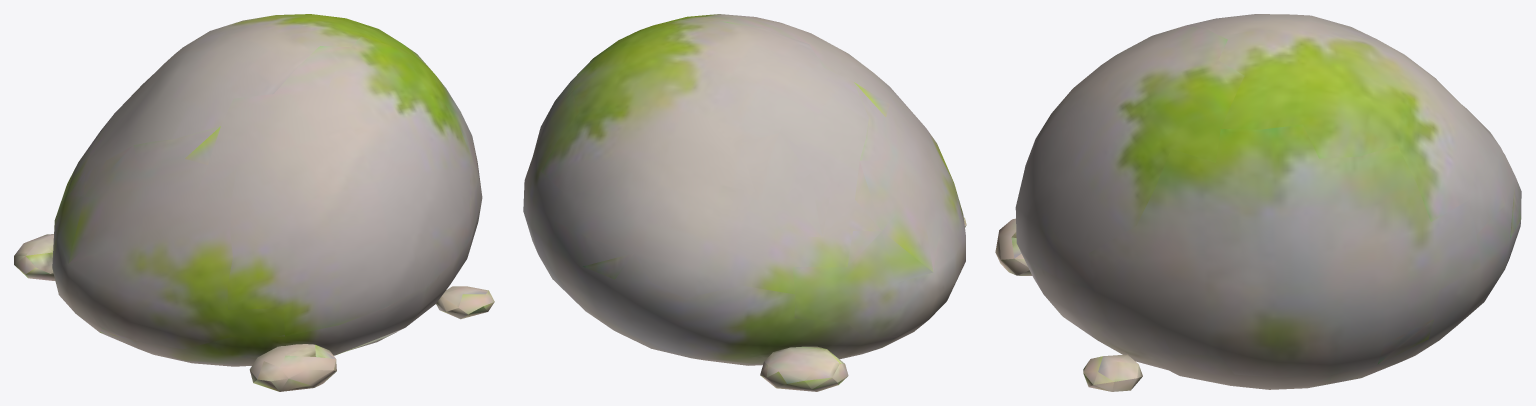
File: roca_rio_1_800.glb
The picture shows the model from 3 angles, left to right: view 1: azimuth 30°, elevation 25°; view 2: azimuth 150°, elevation 25°; view 3: azimuth 270°, elevation 25°; orthographic projection. The views are drawn at different scales.
Parts seen in each view (by area): view 1: roca_rio_1_malla; view 2: roca_rio_1_malla; view 3: roca_rio_1_malla.
Part boxes in pixels (<box>): roca_rio_1_malla: <box>14,14,494,391</box>; roca_rio_1_malla: <box>523,14,966,391</box>; roca_rio_1_malla: <box>995,14,1521,391</box>.
Bounding box in the file's own units: 0.293 × 0.2101 × 0.2972.
Materials: 1 (1 with a texture image).
